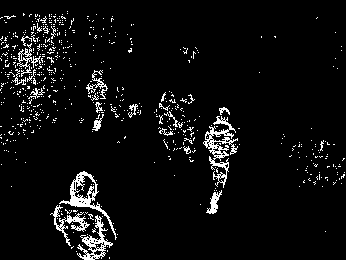person: (55, 169, 117, 260), (205, 106, 241, 217), (176, 92, 201, 165), (156, 89, 180, 159), (87, 70, 107, 134)
